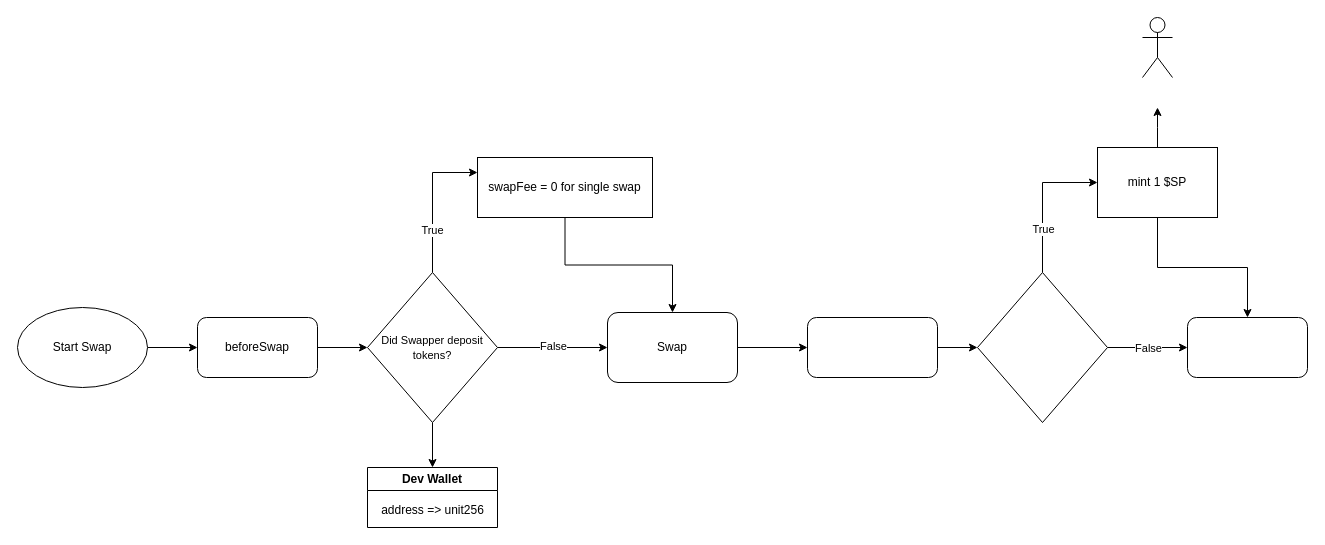
Some shapes in this 1325 by 545 pixel diagram are drawn without their labels. The shapes that lost their labels are listed below. From the top down, each one's centre as x and y in pixels, then its label:
At [1157,47]: "Swapper".
At [872,347]: "afterSwap".
At [1042,347]: "swapFee > n".
At [1247,347]: "End Swap".
